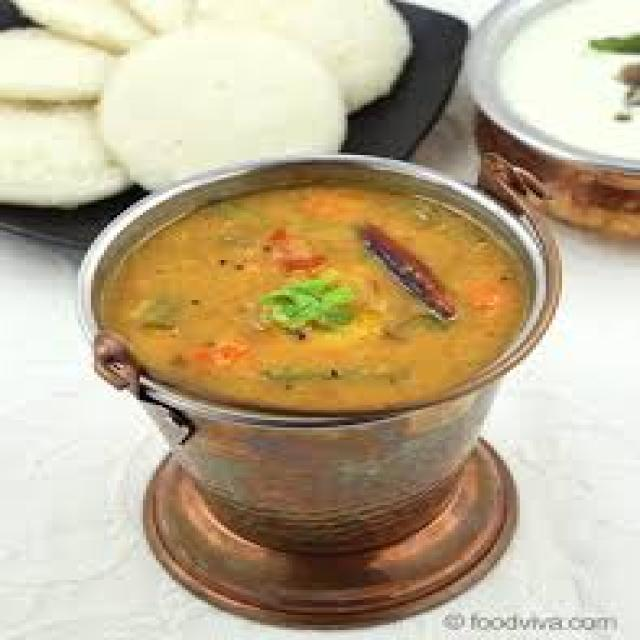IDLI: (93, 36, 350, 190), (195, 0, 402, 93), (5, 102, 148, 208)
